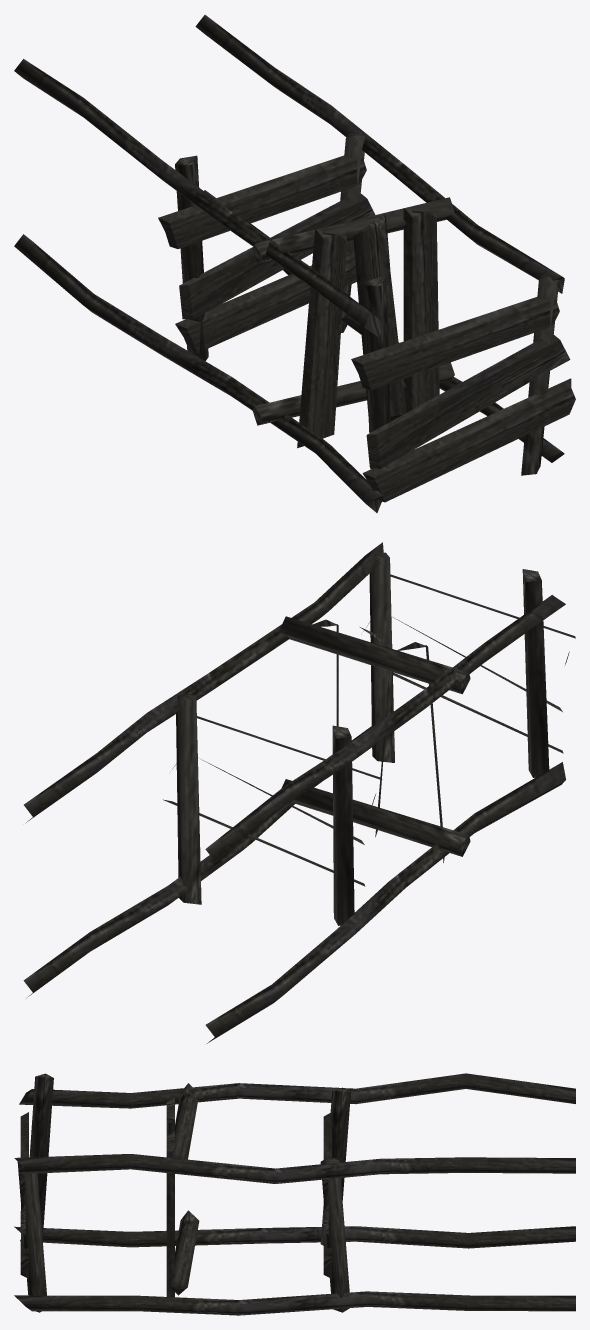
The picture shows the model from 3 angles, top to bottom: view 1: azimuth 30°, elevation 25°; view 2: azimuth 150°, elevation 25°; view 3: azimuth 270°, elevation 25°; orthographic projection. The views are drawn at different scales.
Visible parts, largest first — view 1: model_Object27; view 2: model_Object27; view 3: model_Object27.
Part boxes in pixels (<box>): model_Object27: <box>14,15,575,512</box>; model_Object27: <box>23,542,575,1043</box>; model_Object27: <box>14,1073,575,1315</box>.
Size of the model in its own units: 1.68 by 1.71 by 4.74.
1 material, 1 textured.
